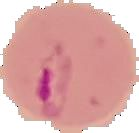parasitized: (32, 36, 71, 122)
